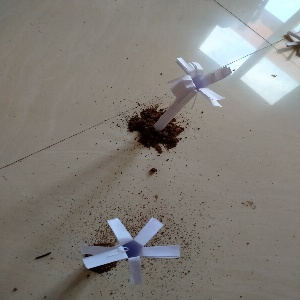weed: (79, 212, 179, 284), (151, 53, 231, 141)
